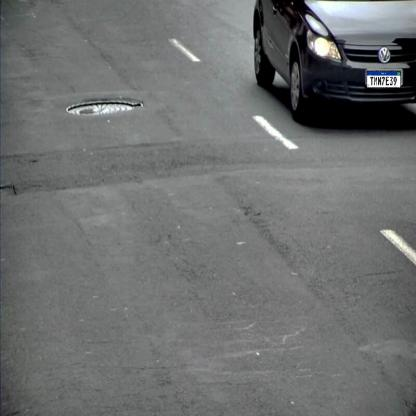PlacaM: (367, 71, 401, 88)
